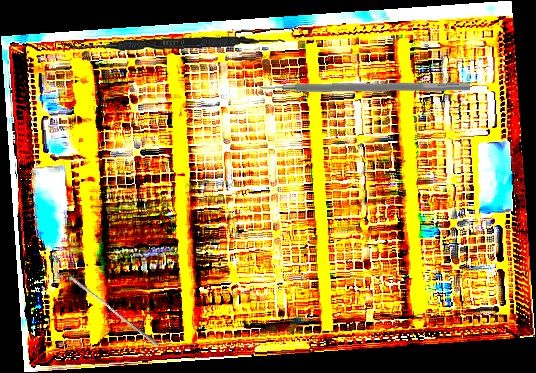Pusher: (66, 274, 163, 348)
Spatula Surgical: (60, 31, 286, 56), (250, 72, 471, 95)
